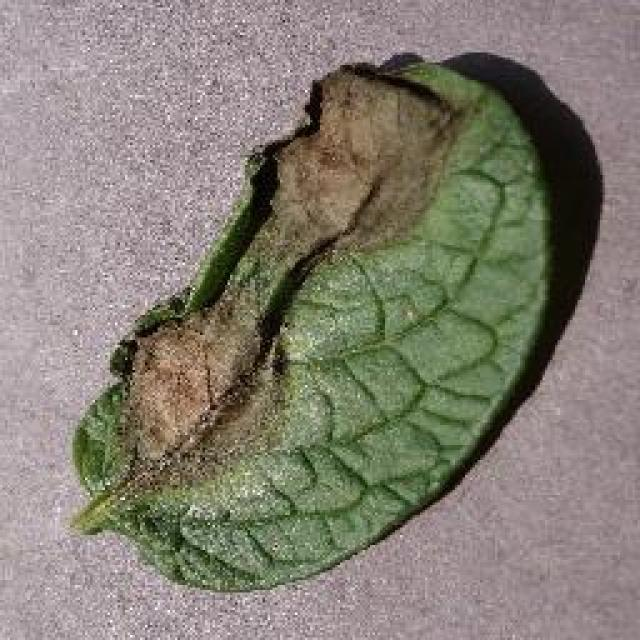late_blight: (65, 47, 597, 595)
